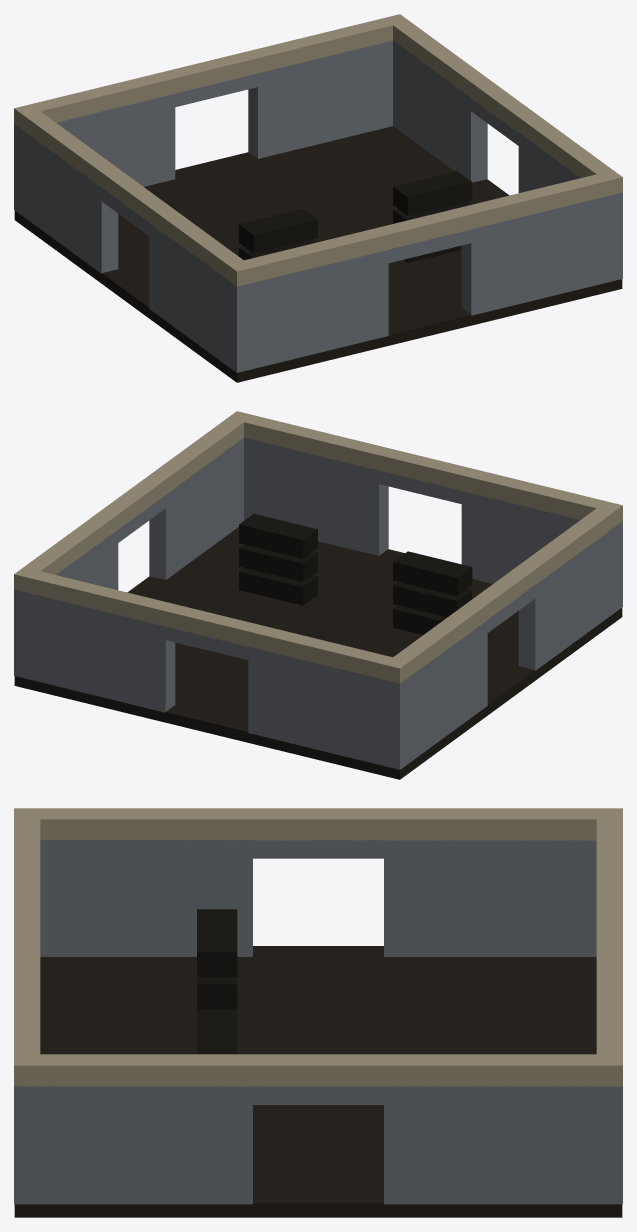
The model's file is BurialVault.fbx.
3 views of the same model, one above another, from view 1: azimuth 30°, elevation 25°; view 2: azimuth 150°, elevation 25°; view 3: azimuth 270°, elevation 25° (orthographic). The views are drawn at different scales.
Parts seen in each view (by area): view 1: BurialVault; view 2: BurialVault; view 3: BurialVault.
Boxes of the visible parts, left/top/right/bottom form: BurialVault: left=14, top=14, right=622, bottom=382; BurialVault: left=14, top=411, right=622, bottom=779; BurialVault: left=14, top=808, right=622, bottom=1217.
Bounding box in the file's own units: 1202 × 332 × 1202.
Materials: 4 (4 with a texture image).
